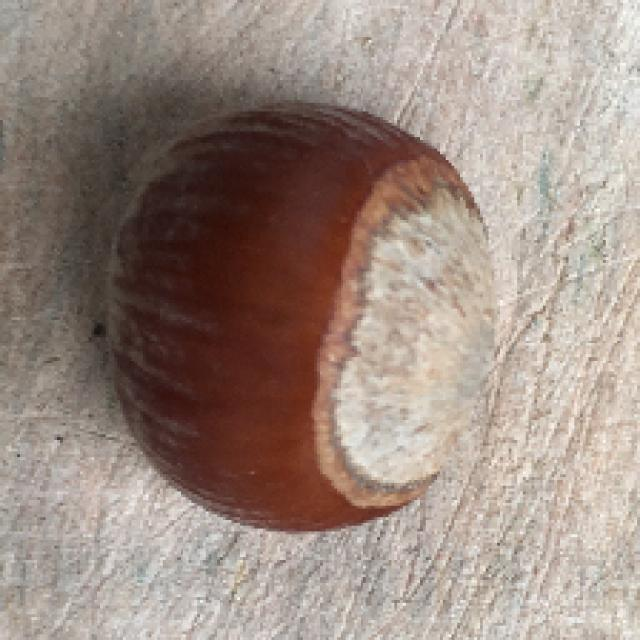qualityHazelnut: (109, 96, 502, 534)
